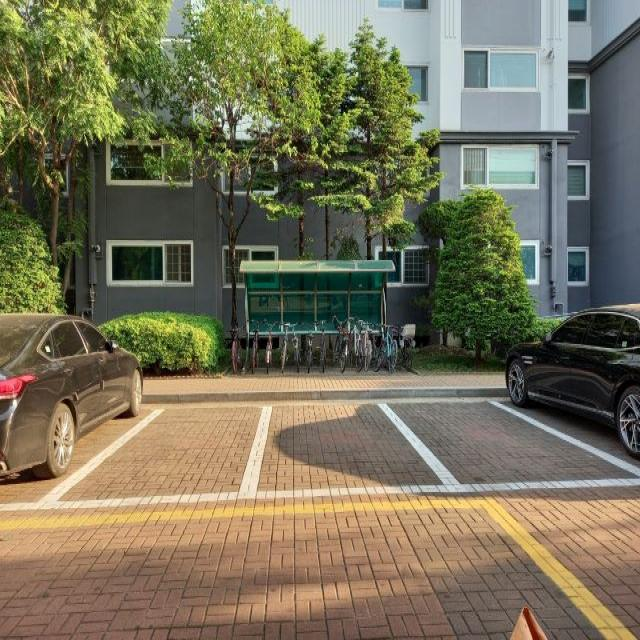empty: (44, 401, 270, 509), (380, 397, 640, 486), (242, 400, 454, 491)
